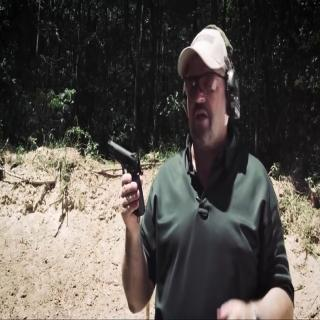gun: (106, 129, 149, 224)
